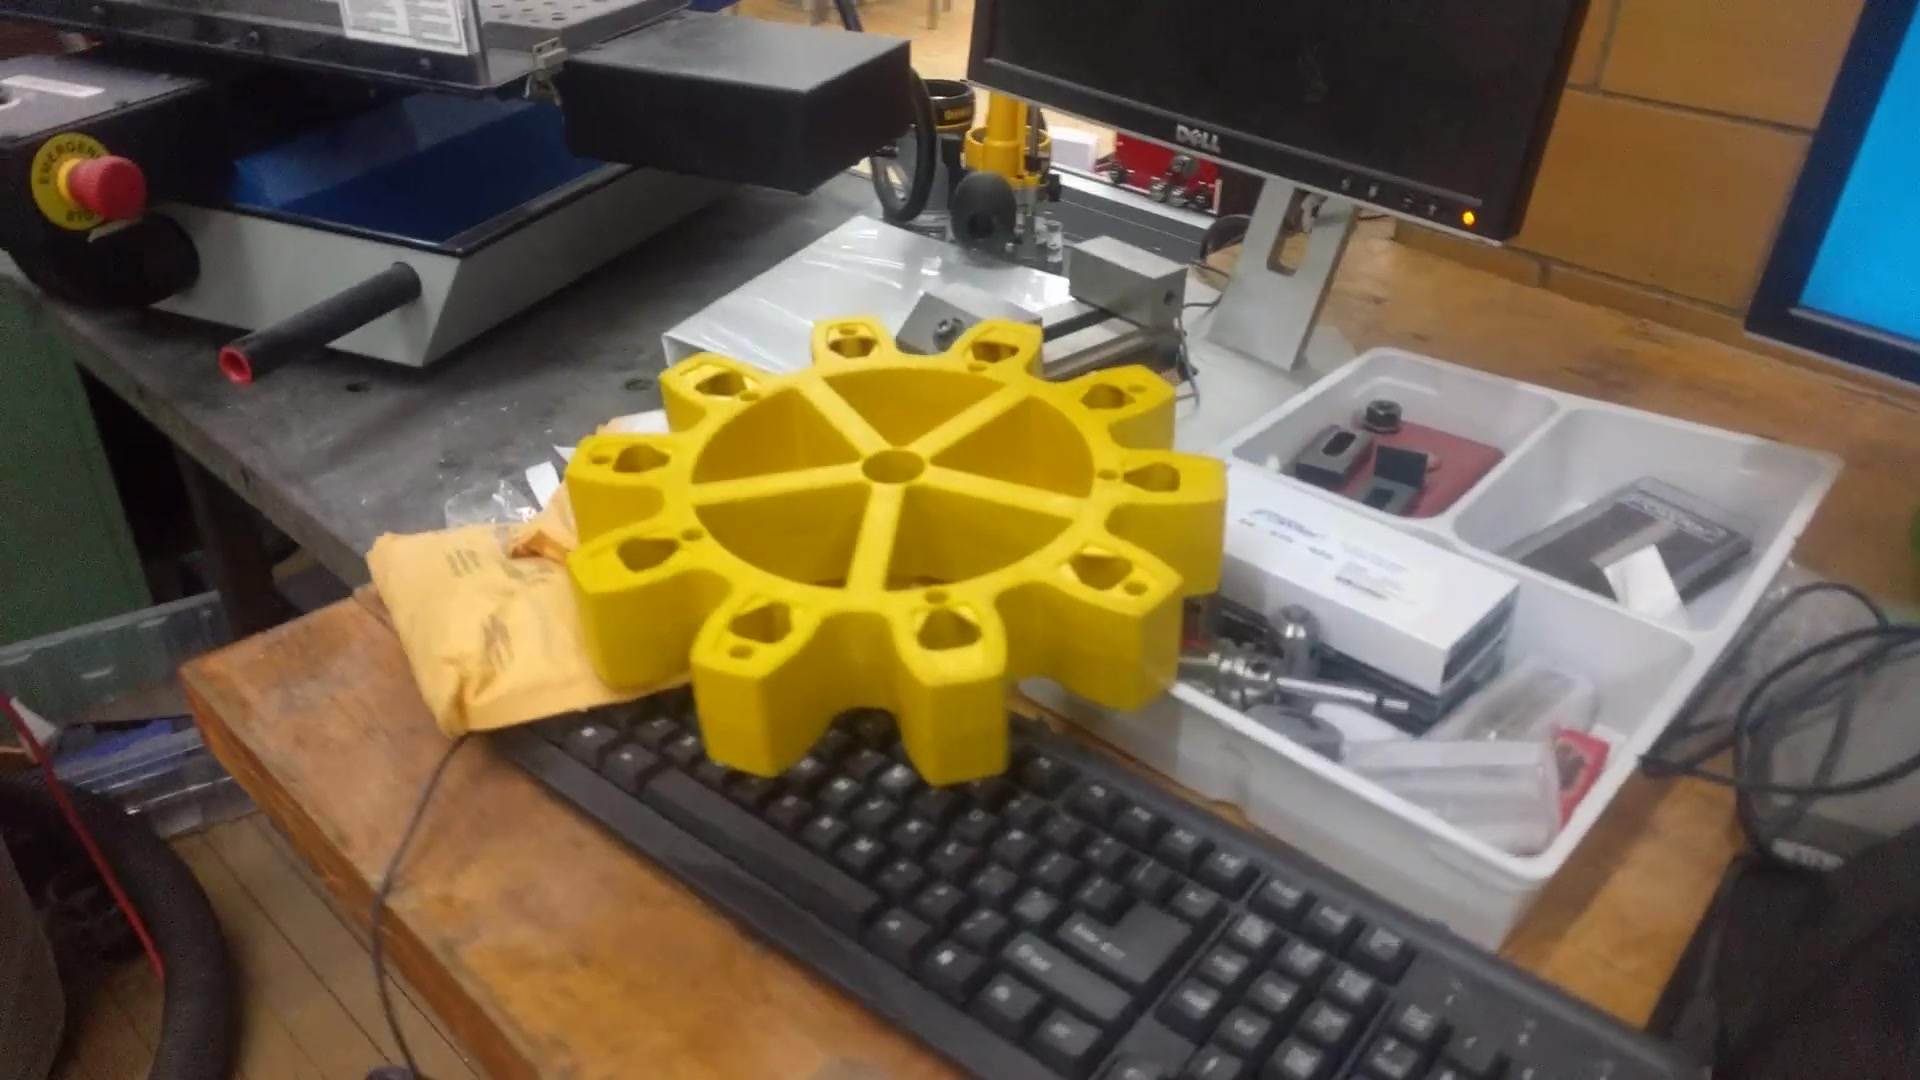gear: (580, 261, 1230, 783)
